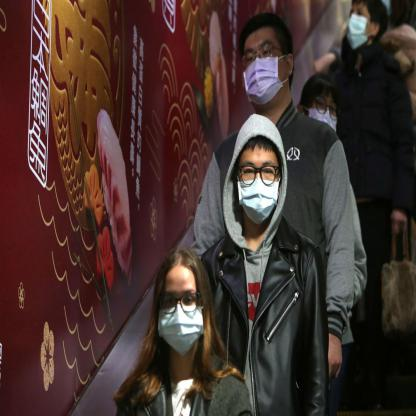Wearing_Mask: (241, 36, 289, 108), (157, 285, 202, 355), (235, 155, 280, 221), (304, 93, 338, 130), (347, 5, 372, 51)
